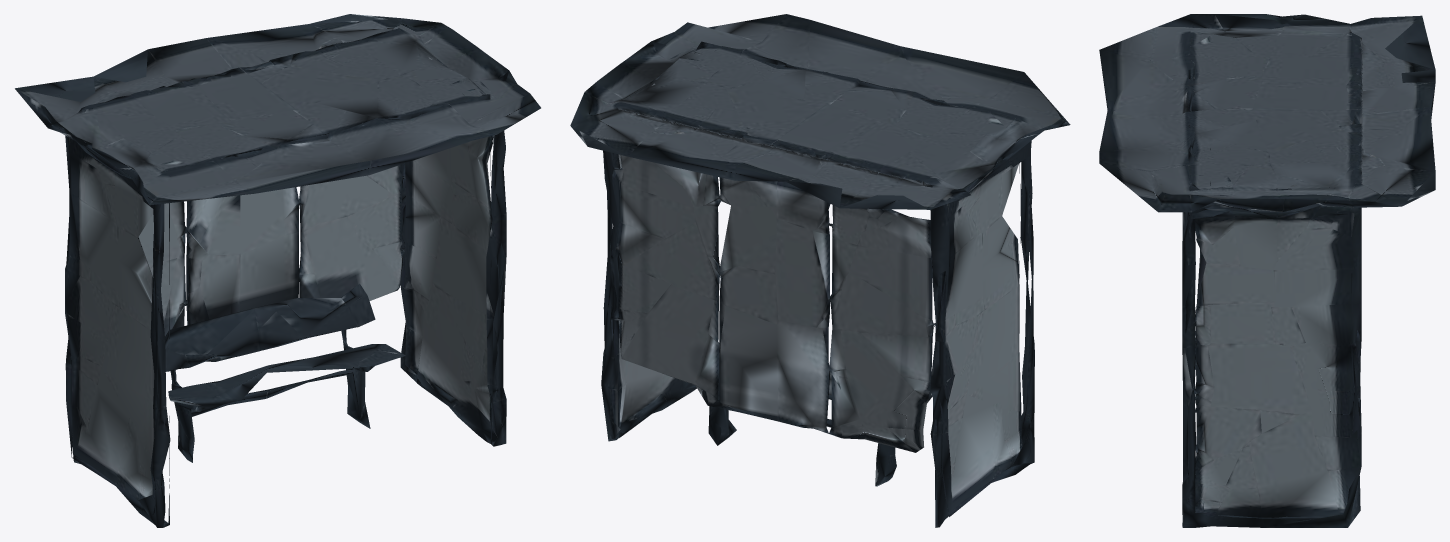
File: bus_shelter_p.glb
3 renders of one model, left to right at view 1: azimuth 30°, elevation 25°; view 2: azimuth 150°, elevation 25°; view 3: azimuth 270°, elevation 25°, orthographic. The views are drawn at different scales.
Bounding box in the file's own units: 1.9 × 1.64 × 1.46.
1 material, 1 textured.
